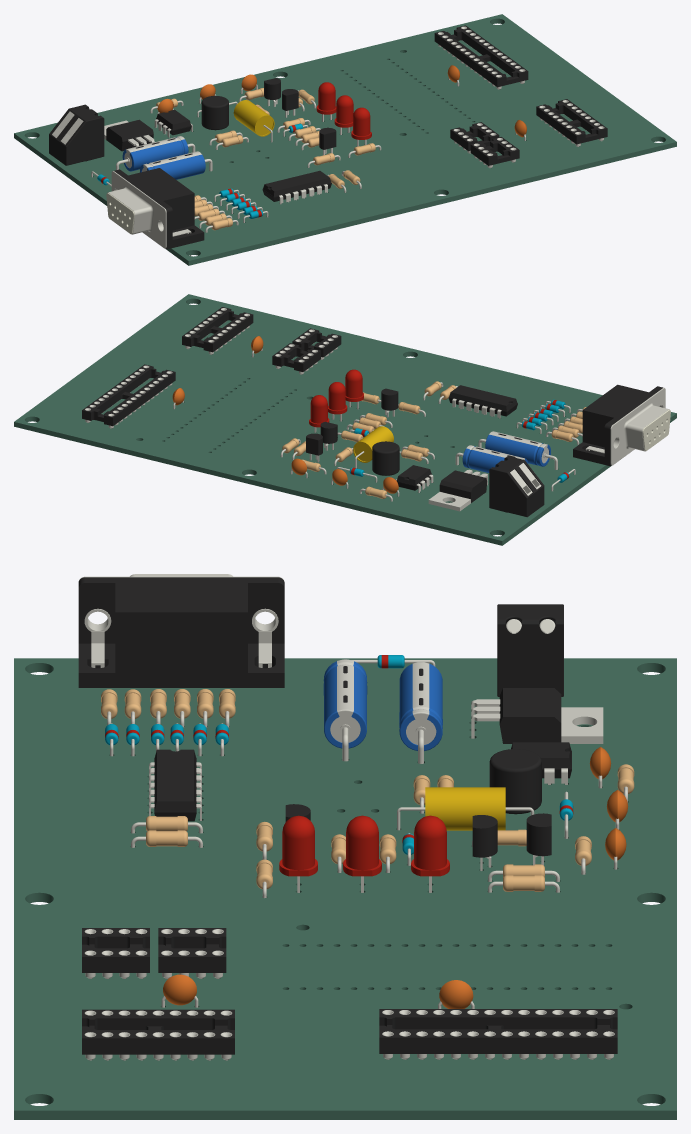
File: pic_programmer.glb
3 views of the same model, one above another, from view 1: azimuth 30°, elevation 25°; view 2: azimuth 150°, elevation 25°; view 3: azimuth 270°, elevation 25° (orthographic). The views are drawn at different scales.
Visible parts, largest first — view 1: =>[0:1:1:19], J1, P2, P1, U5, U2, C1, U3, C2, U6, C3, L1 (+8 smaller); view 2: =>[0:1:1:19], J1, P2, P1, U5, U3, C2, U2, U1, C1, L1, U6 (+7 smaller); view 3: =>[0:1:1:19], J1, P2, U5, P1, U3, C1, C2, U2, U1, U6, C3 (+12 smaller).
Boxes of the visible parts, bbox=[...] form: =>[0:1:1:19]: bbox=[14, 14, 676, 265]; J1: bbox=[106, 168, 204, 256]; P2: bbox=[434, 25, 528, 89]; P1: bbox=[49, 104, 104, 165]; U5: bbox=[536, 99, 607, 146]; U2: bbox=[262, 170, 331, 204]; C1: bbox=[116, 136, 195, 171]; U3: bbox=[104, 119, 154, 151]; C2: bbox=[140, 151, 212, 179]; U6: bbox=[470, 137, 519, 168]; C3: bbox=[233, 100, 274, 142]; L1: bbox=[201, 95, 228, 130]; =>[0:1:1:19]: bbox=[14, 294, 676, 545]; J1: bbox=[573, 384, 670, 466]; P2: bbox=[82, 364, 175, 428]; P1: bbox=[489, 456, 544, 517]; U5: bbox=[182, 307, 253, 354]; U3: bbox=[428, 469, 487, 511]; C2: bbox=[478, 431, 557, 469]; U2: bbox=[448, 385, 517, 418]; U1: bbox=[272, 343, 320, 374]; C1: bbox=[455, 445, 528, 472]; L1: bbox=[372, 441, 399, 475]; U6: bbox=[292, 328, 341, 359]; =>[0:1:1:19]: bbox=[14, 658, 676, 1119]; J1: bbox=[78, 574, 284, 687]; P2: bbox=[379, 1009, 617, 1059]; U5: bbox=[82, 1009, 234, 1060]; P1: bbox=[497, 604, 563, 696]; U3: bbox=[471, 688, 603, 743]; C1: bbox=[399, 662, 442, 763]; C2: bbox=[323, 659, 367, 761]; U2: bbox=[149, 749, 201, 821]; U1: bbox=[158, 928, 226, 978]; U6: bbox=[82, 928, 149, 978]; C3: bbox=[397, 787, 534, 830].
Size of the model in its own units: 0.168 by 0.0189 by 0.0991.
